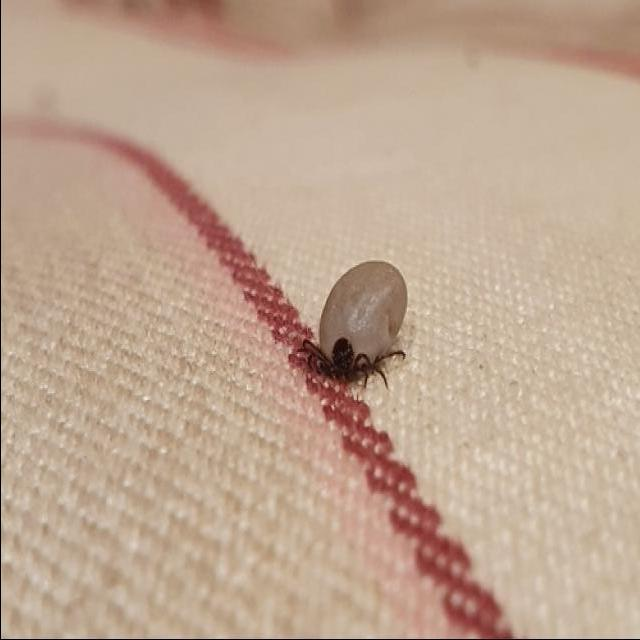Ixodes Ricinus-F-Fed: (297, 261, 407, 389)
